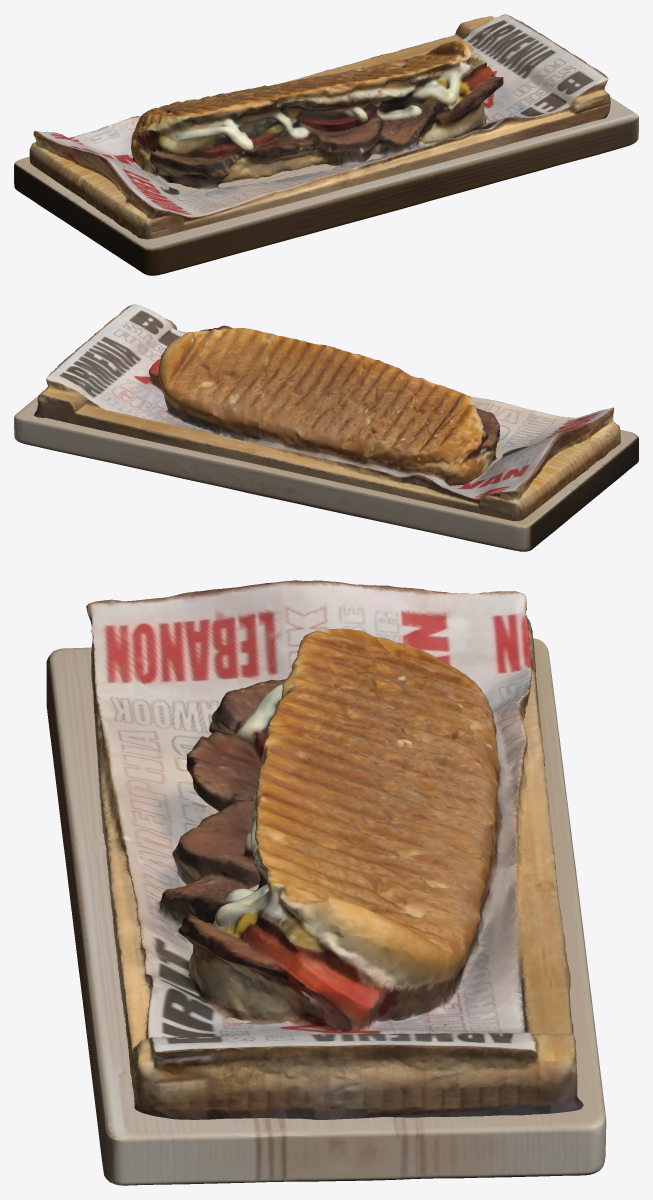
Rendered from rost.beef.sandvich.asli.glb.
3 renders of one model, top to bottom at view 1: azimuth 30°, elevation 25°; view 2: azimuth 150°, elevation 25°; view 3: azimuth 270°, elevation 25°, orthographic. The views are drawn at different scales.
Visible parts, largest first — view 1: /Root/Scenes/Scene/Object_43/Object_44/Submesh_0, /Root/Scenes/Scene/Object_43/Object_47/Object_48/Submesh_0; view 2: /Root/Scenes/Scene/Object_43/Object_44/Submesh_0, /Root/Scenes/Scene/Object_43/Object_47/Object_48/Submesh_0; view 3: /Root/Scenes/Scene/Object_43/Object_44/Submesh_0, /Root/Scenes/Scene/Object_43/Object_47/Object_48/Submesh_0.
Boxes of the visible parts, x1,y1,x2,y2 form: /Root/Scenes/Scene/Object_43/Object_44/Submesh_0: (29, 14, 610, 239); /Root/Scenes/Scene/Object_43/Object_47/Object_48/Submesh_0: (14, 97, 638, 275); /Root/Scenes/Scene/Object_43/Object_44/Submesh_0: (34, 304, 620, 521); /Root/Scenes/Scene/Object_43/Object_47/Object_48/Submesh_0: (14, 396, 638, 551); /Root/Scenes/Scene/Object_43/Object_44/Submesh_0: (86, 580, 583, 1119); /Root/Scenes/Scene/Object_43/Object_47/Object_48/Submesh_0: (46, 638, 606, 1185).
Size of the model in its own units: 0.3505 by 0.0603 by 0.1655.
2 materials, 2 textured.
